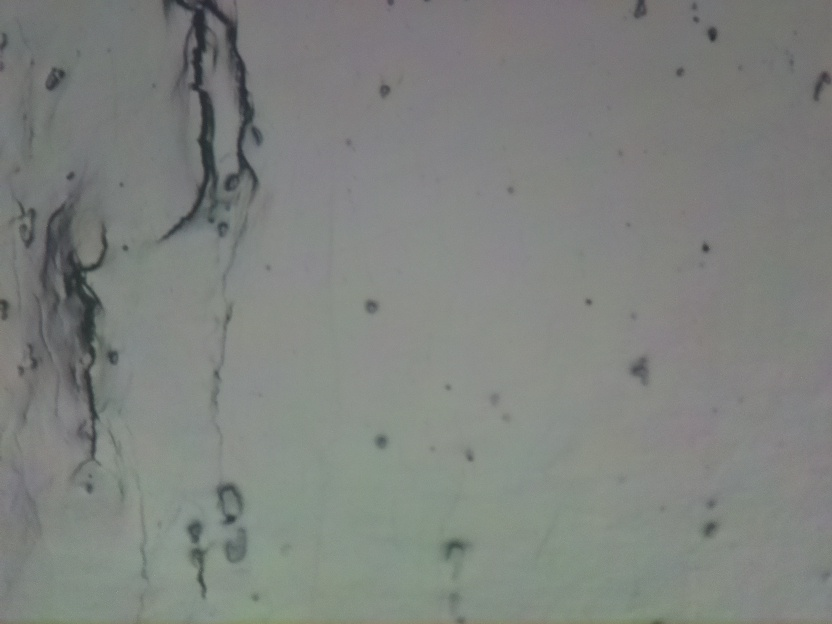crack: (58, 226, 113, 475), (158, 0, 209, 239), (214, 0, 270, 199)
